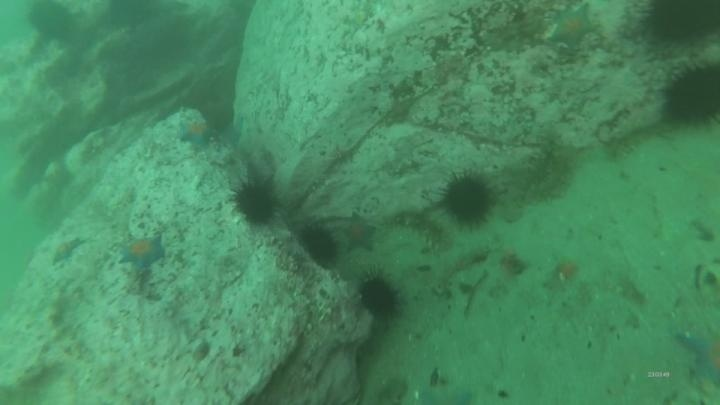echinus: (659, 57, 720, 130), (641, 1, 719, 47), (438, 170, 498, 229), (231, 178, 280, 227), (25, 1, 78, 44), (357, 274, 402, 321), (297, 223, 341, 268), (103, 1, 162, 31)
holothurian: (524, 147, 575, 203), (600, 123, 669, 162), (388, 206, 449, 247)
starfish: (677, 327, 720, 387), (546, 4, 600, 51), (117, 233, 167, 270), (340, 213, 379, 254), (47, 234, 87, 268), (417, 381, 475, 404), (176, 117, 217, 149)
